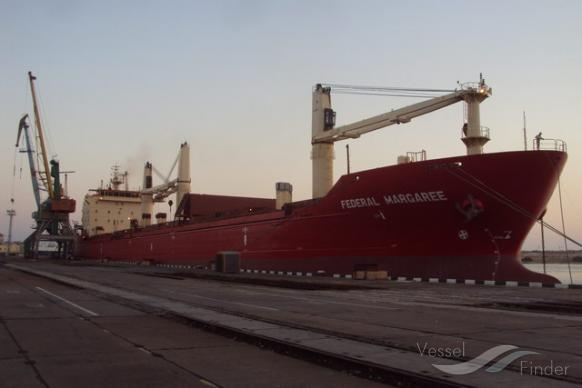OCR: (336, 186, 448, 216)
